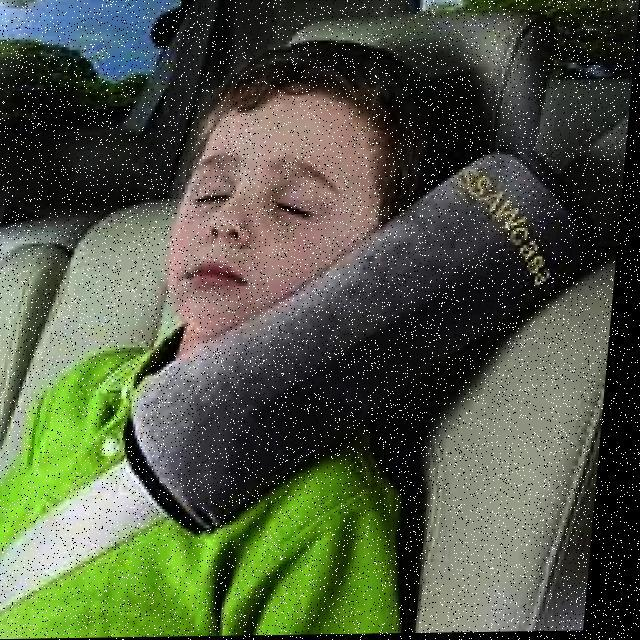seatbelt: (43, 313, 396, 639)
